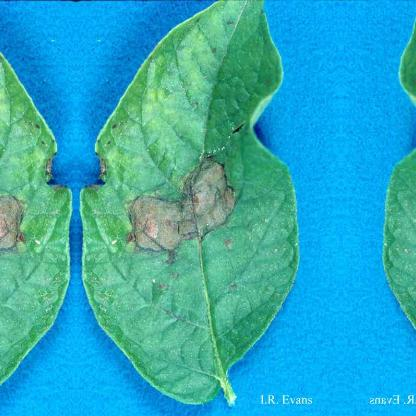Late-Blight: (79, 2, 313, 400), (0, 2, 71, 399), (367, 2, 416, 399)
